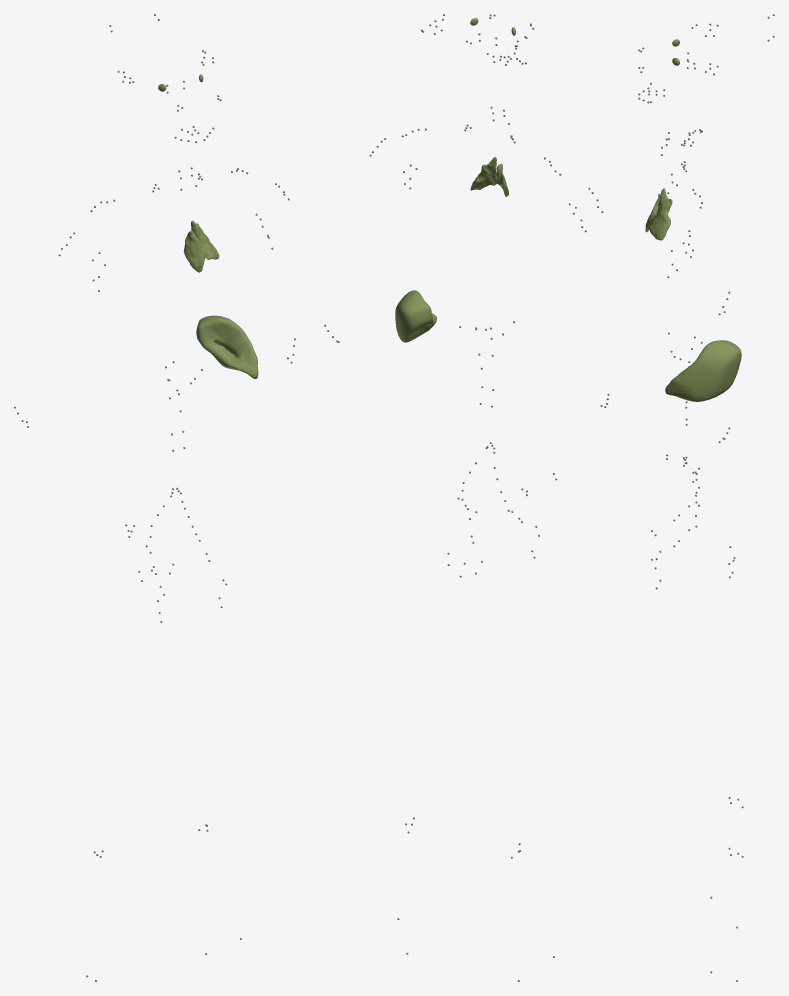
File: immune-system.glb
3 views of the same model, side by side, from view 1: azimuth 30°, elevation 25°; view 2: azimuth 150°, elevation 25°; view 3: azimuth 270°, elevation 25° (orthographic).
Parts seen in each view (by area): view 1: spleen, real-lymphoid-organs-right-lobe-of-thymus; view 2: spleen; view 3: spleen, real-lymphoid-organs-left-lobe-of-thymus.
Part boxes in pixels (x1,y1,x2,y2): spleen: (196,315,258,378); real-lymphoid-organs-right-lobe-of-thymus: (183,230,205,272); spleen: (395,290,436,342); spleen: (665,340,741,401); real-lymphoid-organs-left-lobe-of-thymus: (649,188,672,240).
Bounding box in the file's own units: 0.4019 × 1.28 × 0.1697.
